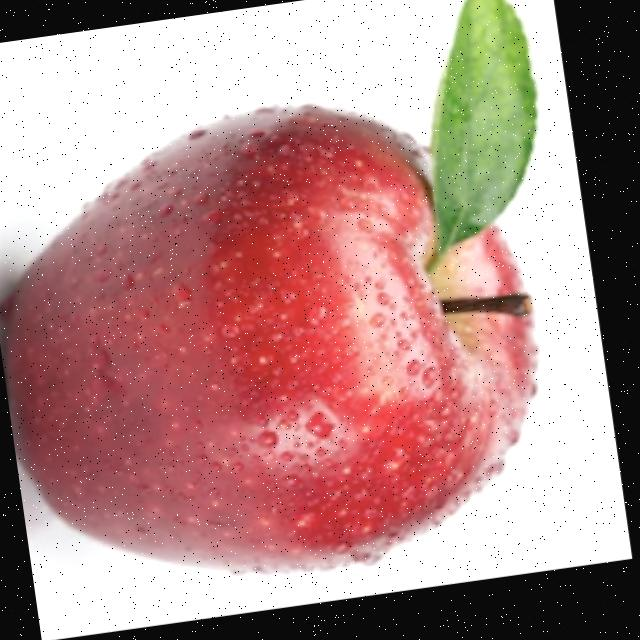Ripe: (0, 66, 575, 617)
